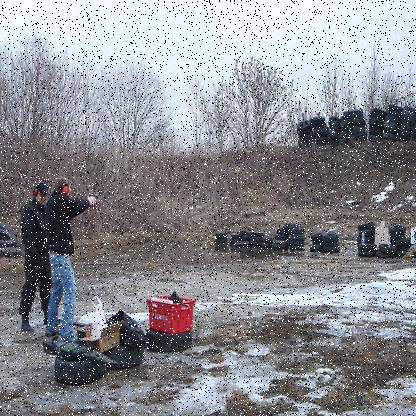pistol: (85, 194, 98, 208)
